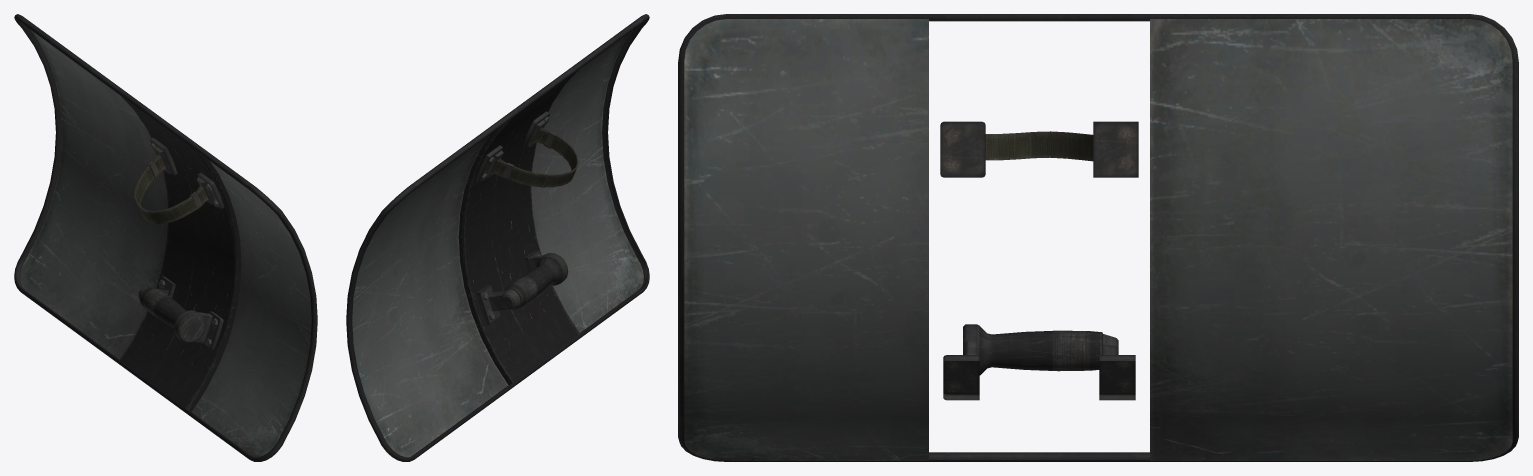
File: viewmodel_riot_shield_mp_LOD0.obj
3 views of the same model, side by side, from view 1: azimuth 30°, elevation 25°; view 2: azimuth 150°, elevation 25°; view 3: azimuth 270°, elevation 25° (orthographic). The views are drawn at different scales.
Parts seen in each view (by area): view 1: mtl_weapon_riot_shield_glass_viewmodel, mtl_weapon_riot_shield; view 2: mtl_weapon_riot_shield_glass_viewmodel, mtl_weapon_riot_shield; view 3: mtl_weapon_riot_shield_glass_viewmodel, mtl_weapon_riot_shield.
Boxes of the visible parts, x1,y1,x2,y2 form: mtl_weapon_riot_shield_glass_viewmodel: [20, 29, 311, 457]; mtl_weapon_riot_shield: [14, 14, 317, 461]; mtl_weapon_riot_shield_glass_viewmodel: [352, 29, 643, 457]; mtl_weapon_riot_shield: [346, 14, 649, 461]; mtl_weapon_riot_shield_glass_viewmodel: [684, 19, 1512, 460]; mtl_weapon_riot_shield: [678, 14, 1518, 461].
Bounding box in the file's own units: 16.42 × 58.38 × 99.45.
2 materials, 2 textured.
